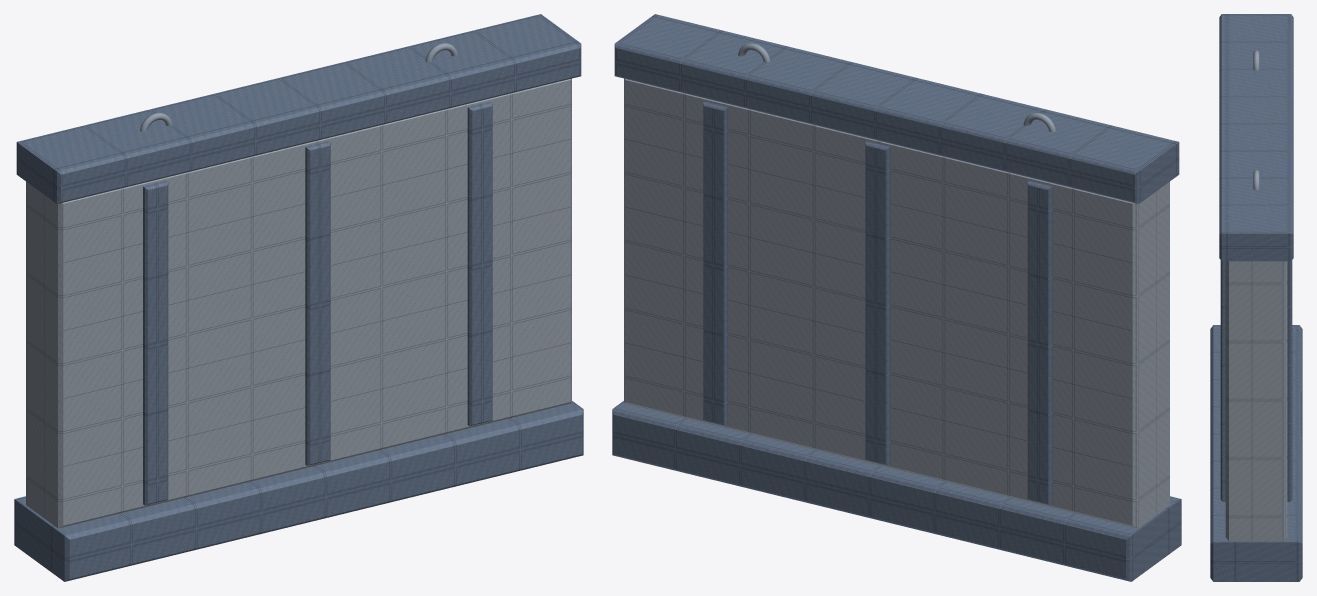
Rendered from wall_block_concrete.glb.
3 views of the same model, side by side, from view 1: azimuth 30°, elevation 25°; view 2: azimuth 150°, elevation 25°; view 3: azimuth 270°, elevation 25° (orthographic). The views are drawn at different scales.
Parts seen in each view (by area): view 1: wall_block_concrete; view 2: wall_block_concrete; view 3: wall_block_concrete.
Boxes of the visible parts, box(x1,y1,x2,y2) form: wall_block_concrete: box(14, 14, 583, 581); wall_block_concrete: box(612, 14, 1181, 581); wall_block_concrete: box(1210, 14, 1302, 581).
Bounding box in the file's own units: 4.04 × 3.11 × 0.72.
3 materials, 2 textured.
